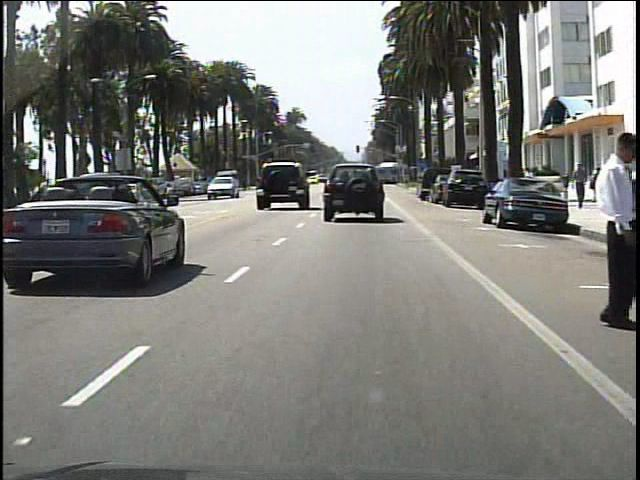person: (577, 117, 636, 323)
